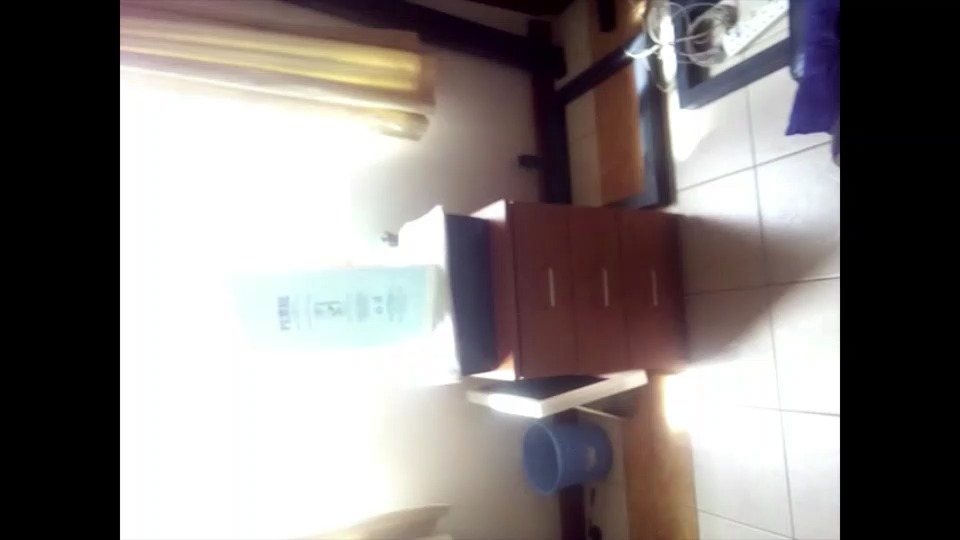wheat_flour_blue_label: (257, 267, 444, 341)
